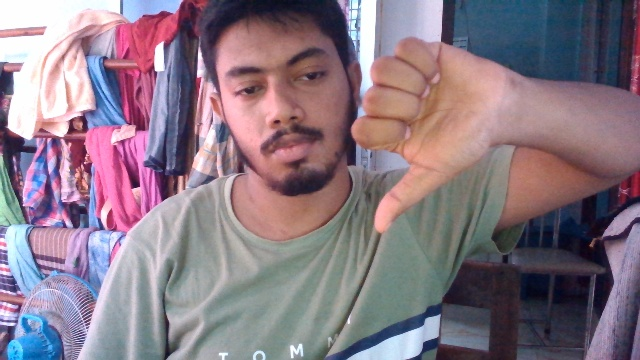no: (344, 31, 518, 247)
